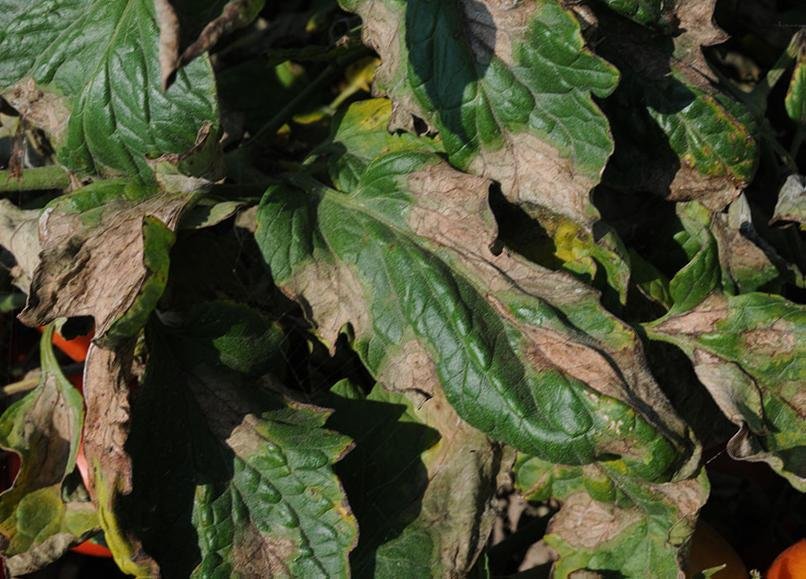Tomato leaf late blight: (243, 160, 700, 505), (338, 12, 634, 243), (0, 119, 228, 414), (133, 339, 373, 579), (643, 277, 806, 579), (0, 4, 254, 180)
